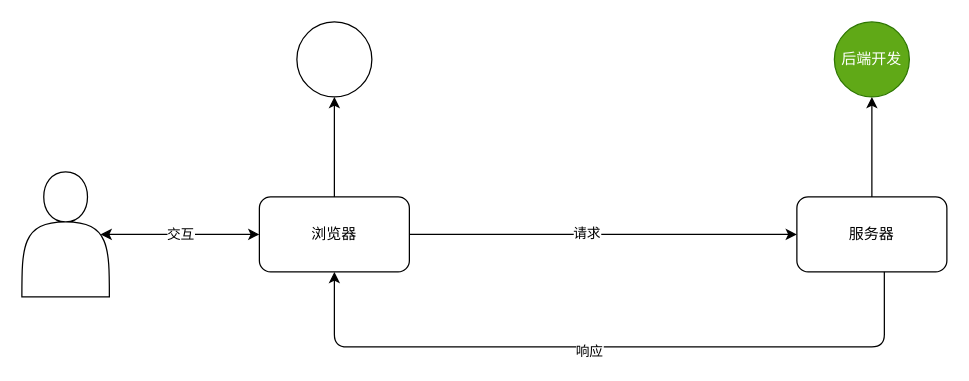
Image size: 969x381. Some labels were removed from this diagram. The centre of each missing label's shape, as x and y in pixels:
"前端开发" goes at (x=334, y=59).
"用户" goes at (x=65, y=234).
